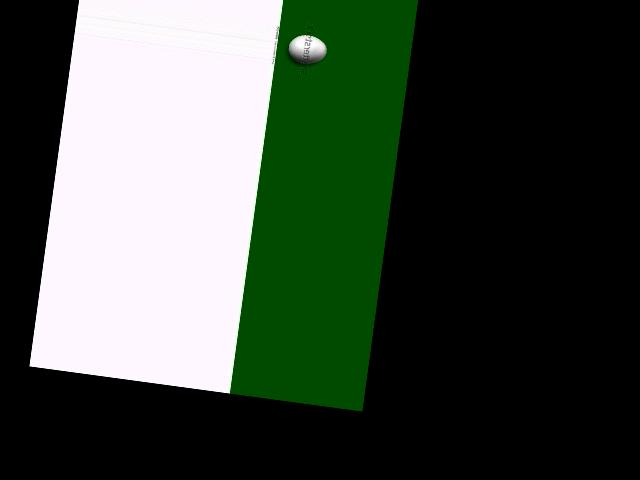egg: (286, 32, 328, 66)
